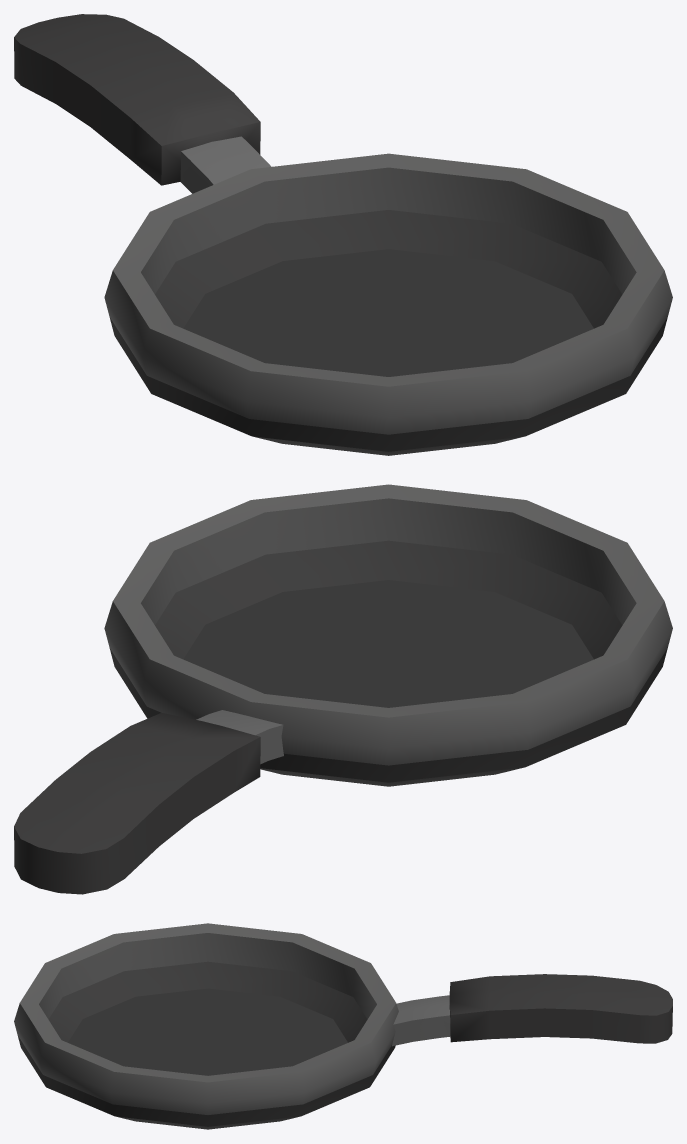
The model's file is Frying_Pan_01.fbx.
3 views of the same model, one above another, from view 1: azimuth 30°, elevation 25°; view 2: azimuth 150°, elevation 25°; view 3: azimuth 270°, elevation 25° (orthographic). The views are drawn at different scales.
Parts seen in each view (by area): view 1: Frying_Pan_01; view 2: Frying_Pan_01; view 3: Frying_Pan_01.
Boxes of the visible parts, <box> form: Frying_Pan_01: <box>14,14,672,455</box>; Frying_Pan_01: <box>14,484,672,894</box>; Frying_Pan_01: <box>14,923,672,1129</box>.
Bounding box in the file's own units: 82.58 × 18.47 × 140.
